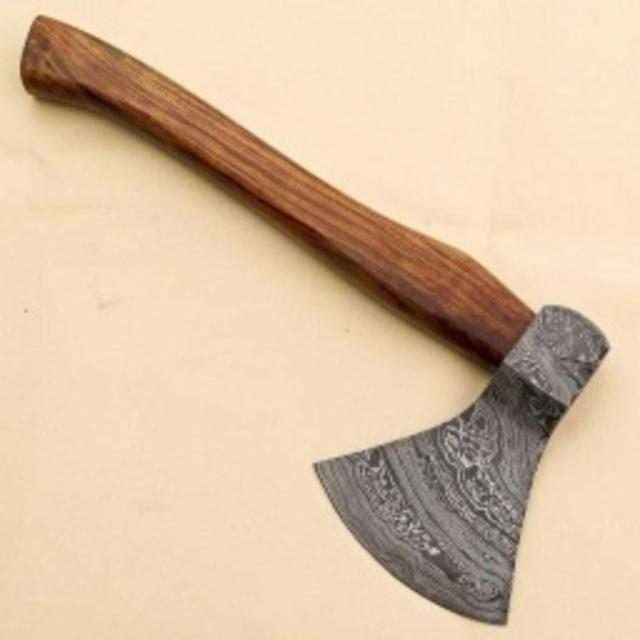ax: (14, 9, 616, 632)
